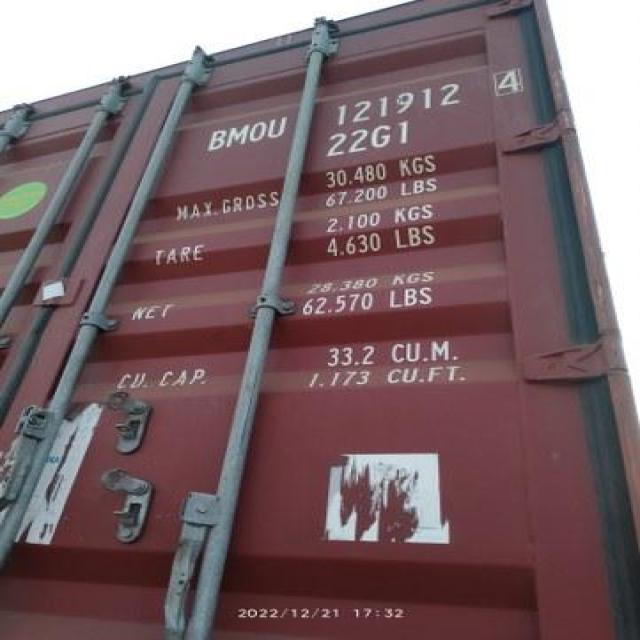ISO: (322, 124, 412, 158)
container_number: (205, 72, 531, 159)
